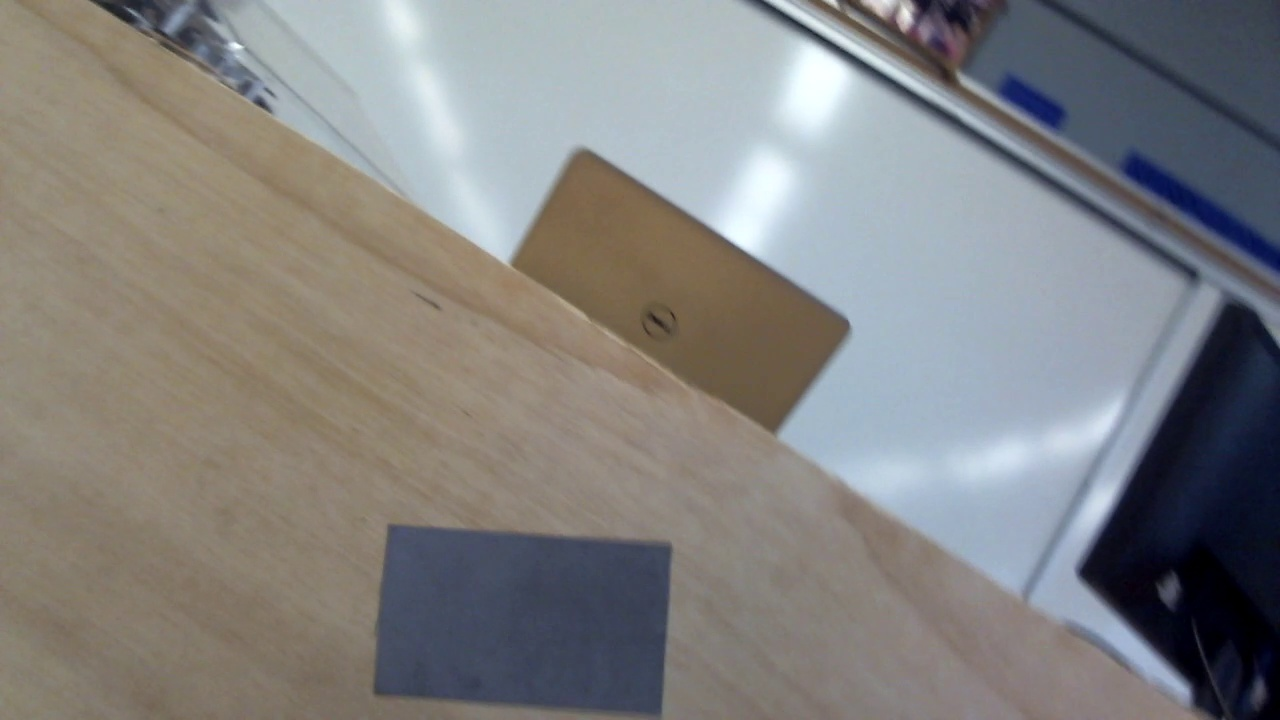Tape: (372, 527, 674, 720)
